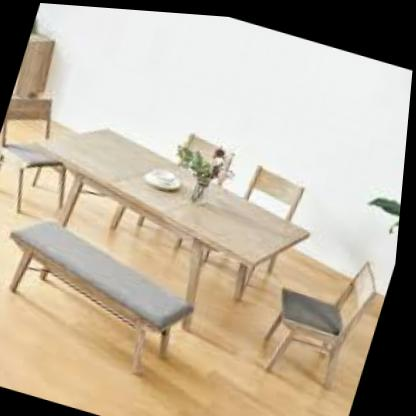Dining Table: (0, 96, 409, 416)
